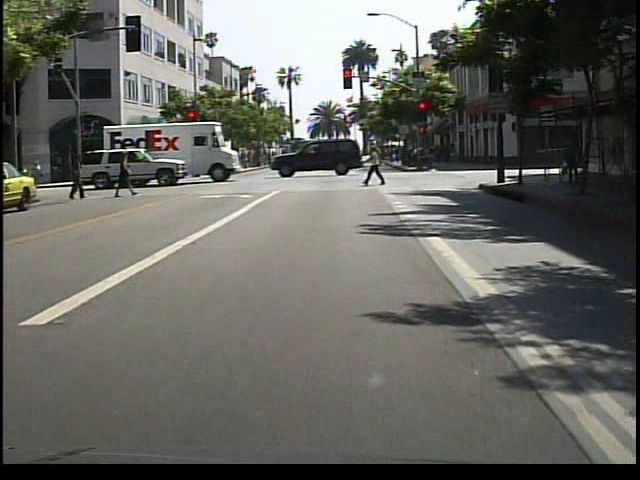person: (560, 136, 588, 193), (111, 152, 135, 202), (366, 144, 391, 190), (66, 157, 88, 206)
